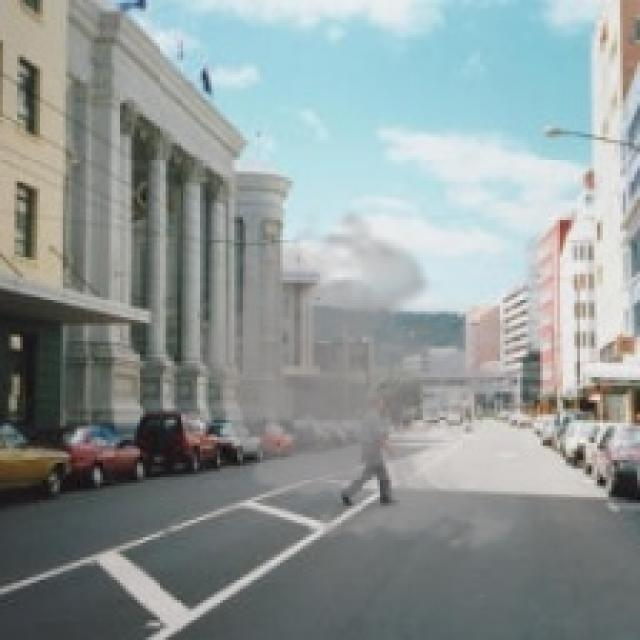smoke: (166, 209, 583, 560)
